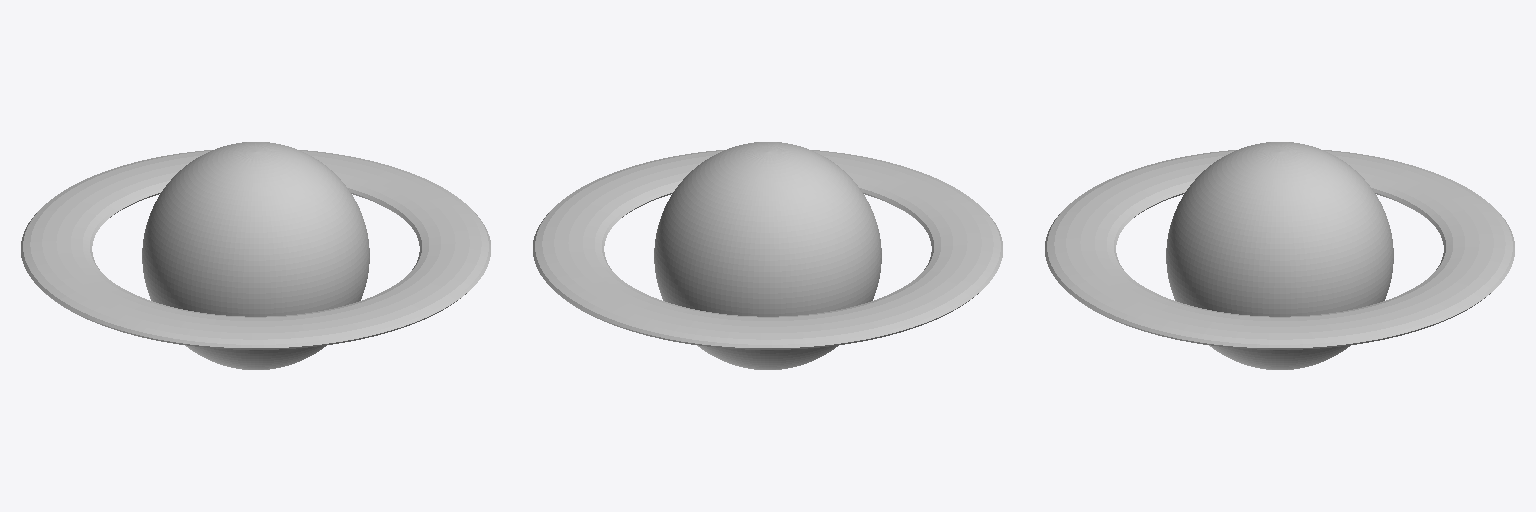
The model's file is ringplanets.obj.
3 renders of one model, left to right at view 1: azimuth 30°, elevation 25°; view 2: azimuth 150°, elevation 25°; view 3: azimuth 270°, elevation 25°, orthographic.
Visible parts, largest first — view 1: Sphere; view 2: Sphere; view 3: Sphere.
Part boxes in pixels (bbox=[...]): Sphere: bbox=[21, 142, 490, 369]; Sphere: bbox=[533, 142, 1002, 369]; Sphere: bbox=[1045, 142, 1514, 369].
Bounding box in the file's own units: 4.08 × 2 × 4.08.